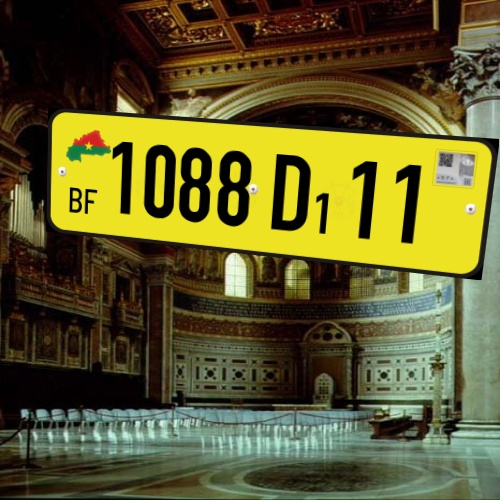plate: (34, 97, 500, 295)
